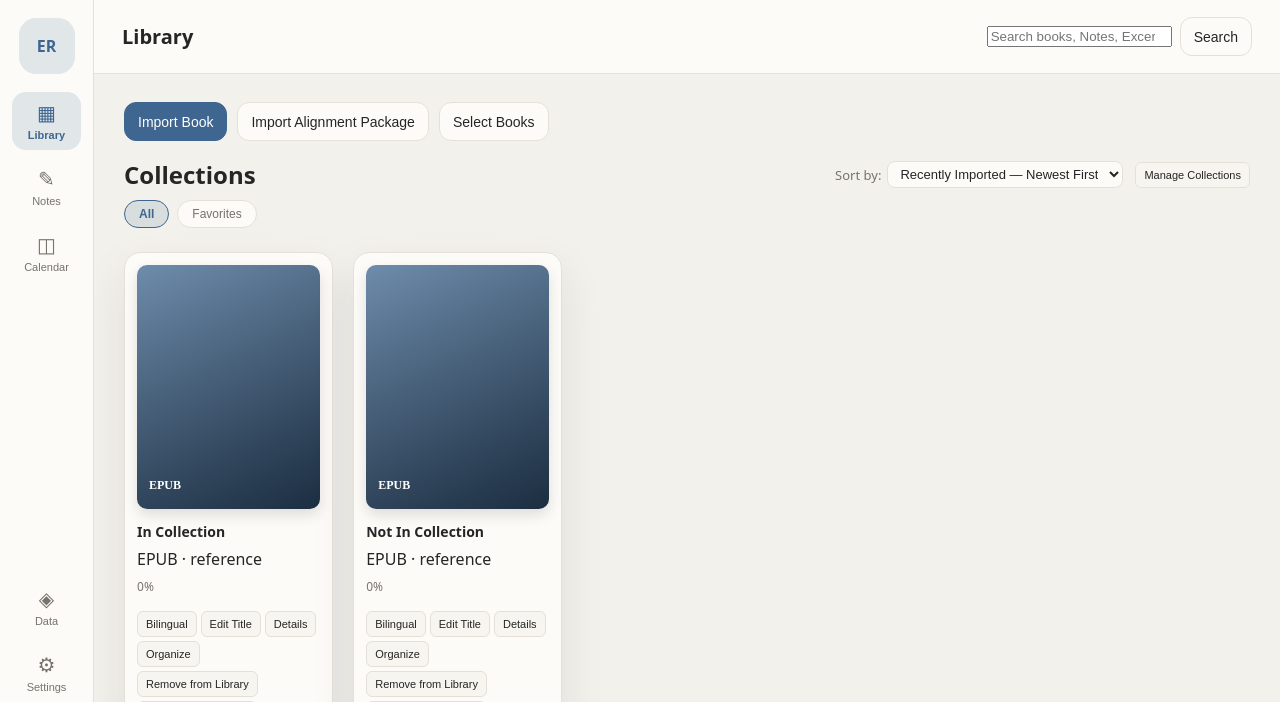
Test case: Collections and Tags (PRODUCT_SPEC.md SS4.3/4.4; FC-A01) › filtering by a Collection shows only its member Books
The image size is (1280, 702).
Check: the button "In Collection" is shown, box [137,523,225,542]
Check: the button "Not In Collection" is shown, box [366,523,484,542]
Click the button "Favorites". click: (217, 214)
box: [177,200,257,228]
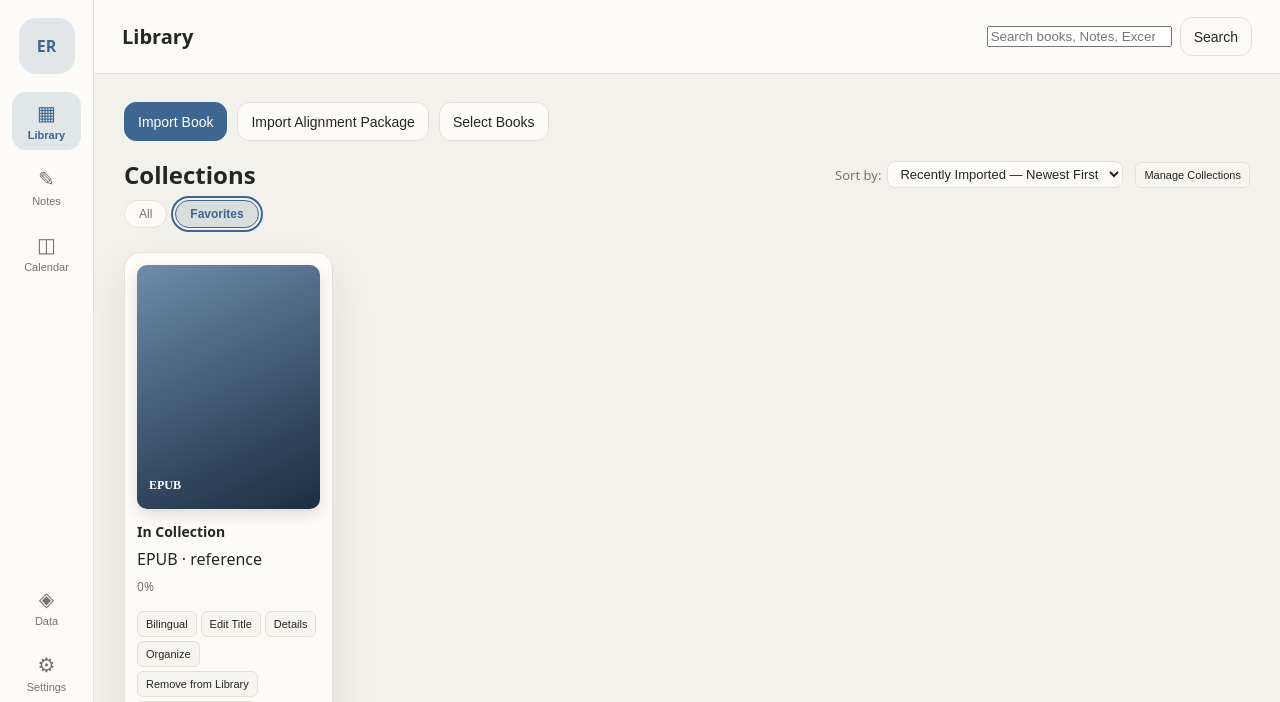
Check: the button "In Collection" is shown, box [137,523,225,542]
Check: the button "Not In Collection" is gone
